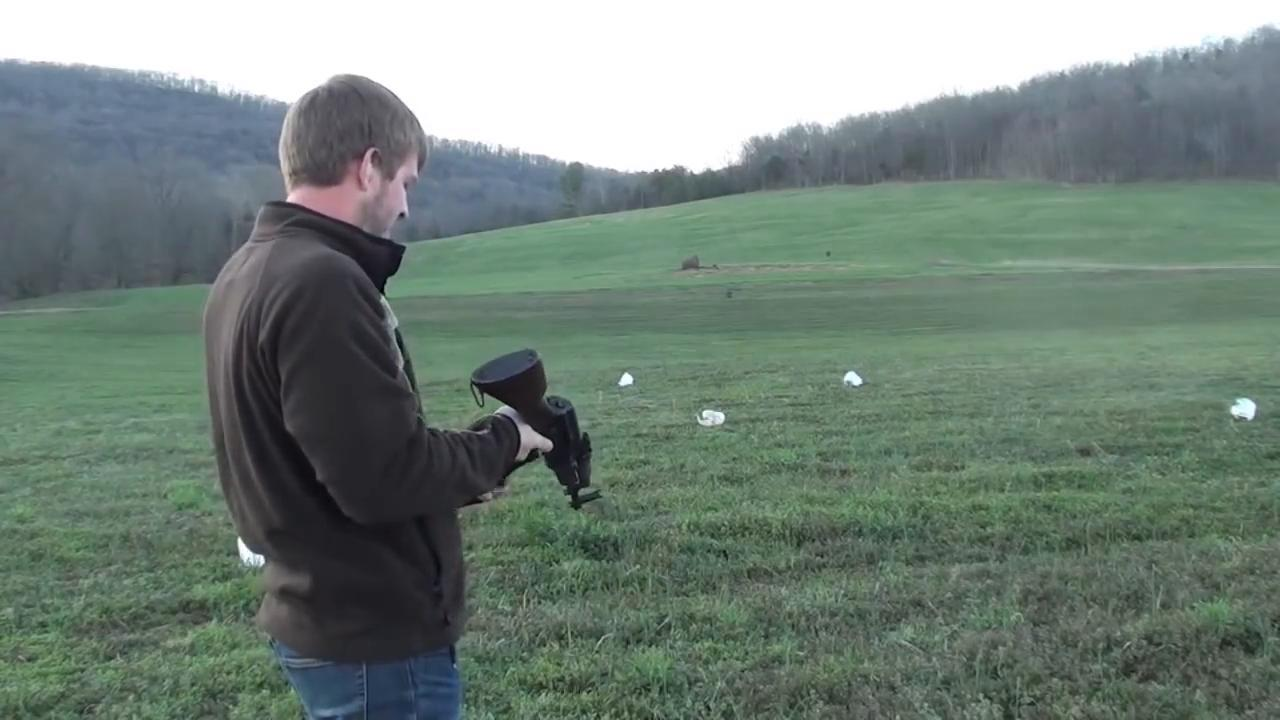AK47 Rifle: (467, 349, 607, 513)
